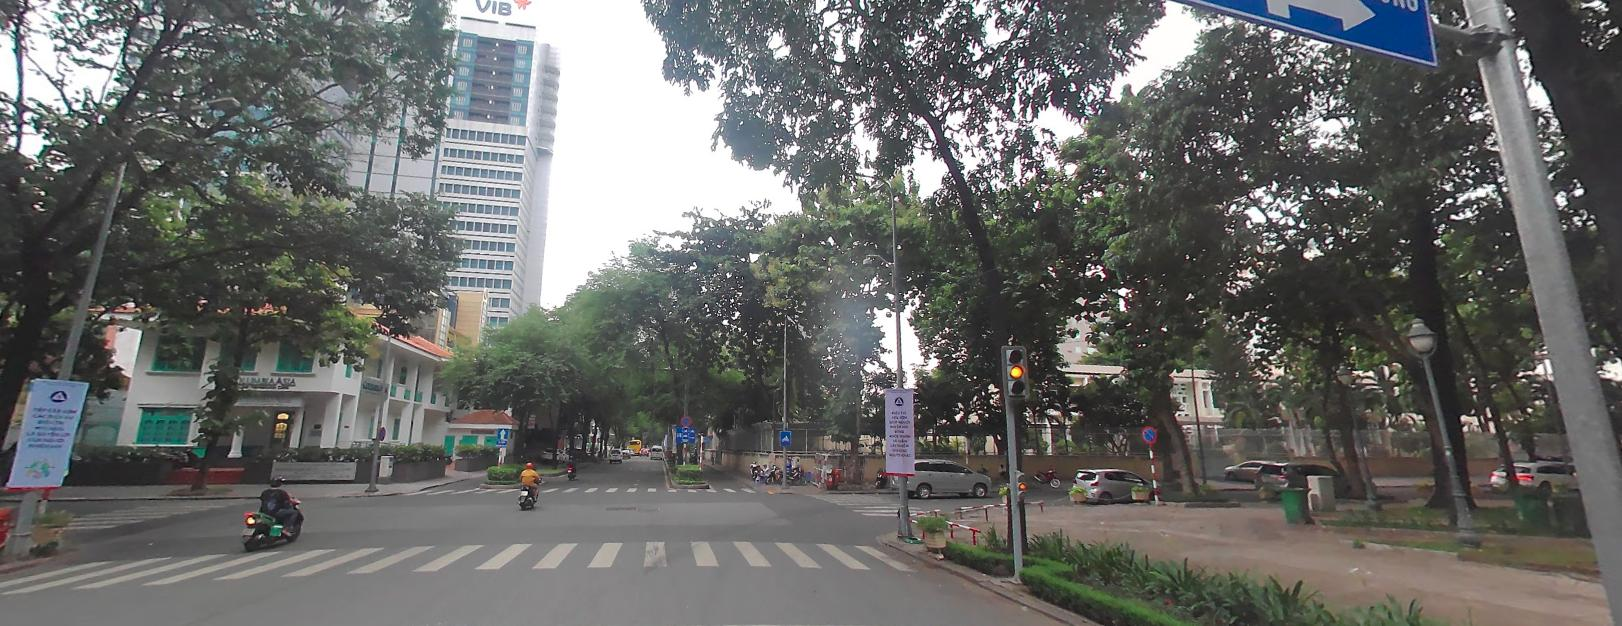Cam dung va do: (1141, 424, 1157, 442), (680, 413, 691, 424)
